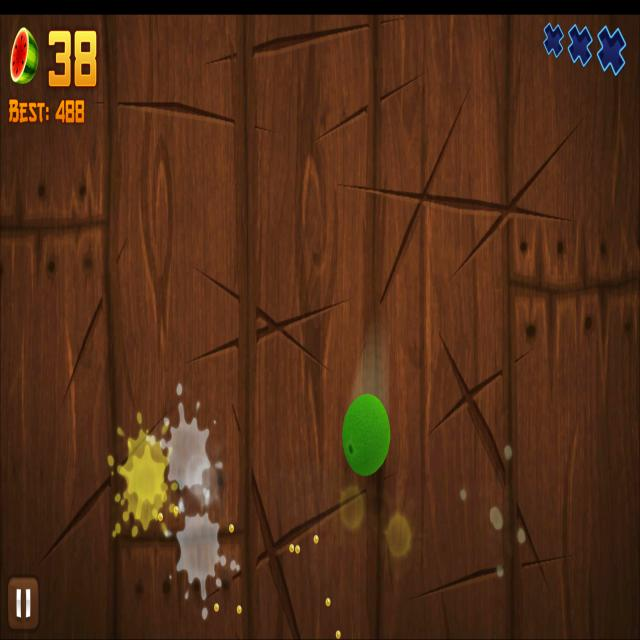fruit: (342, 391, 391, 478)
